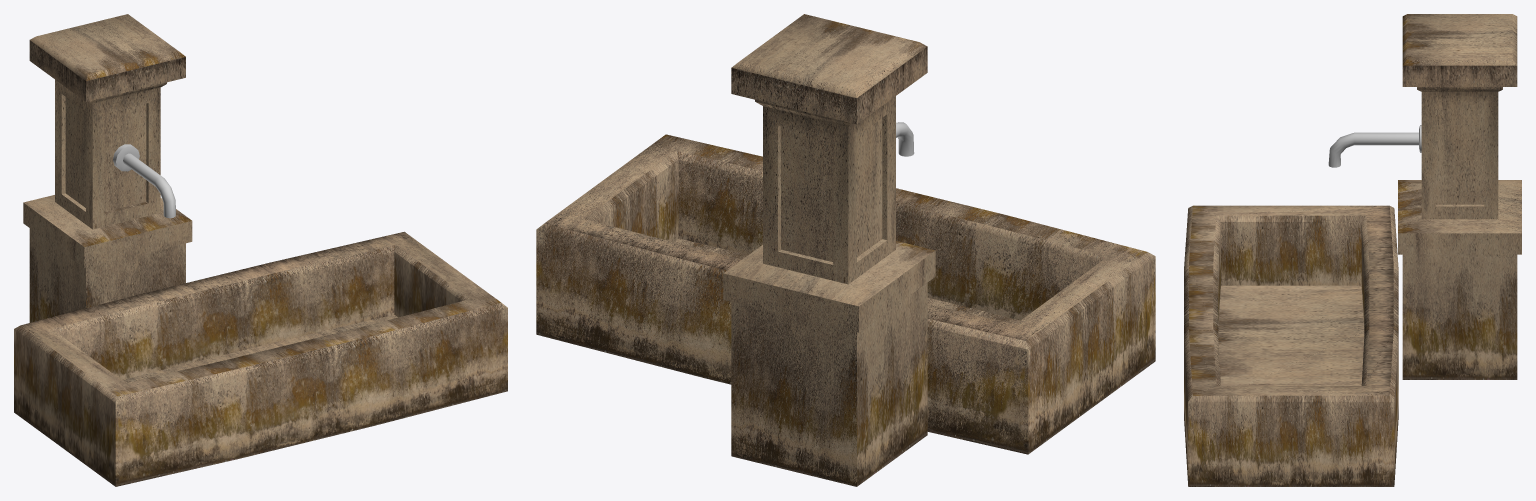
File: f1_well01.fbx
3 views of the same model, side by side, from view 1: azimuth 30°, elevation 25°; view 2: azimuth 150°, elevation 25°; view 3: azimuth 270°, elevation 25° (orthographic). The views are drawn at different scales.
Visible parts, largest first — view 1: Mesh Object; view 2: Mesh Object; view 3: Mesh Object.
Boxes of the visible parts, left/top/right/bottom form: Mesh Object: left=14, top=14, right=507, bottom=486; Mesh Object: left=536, top=14, right=1155, bottom=486; Mesh Object: left=1184, top=14, right=1521, bottom=486.
Size of the model in its own units: 2.89 by 2.21 by 2.13.
